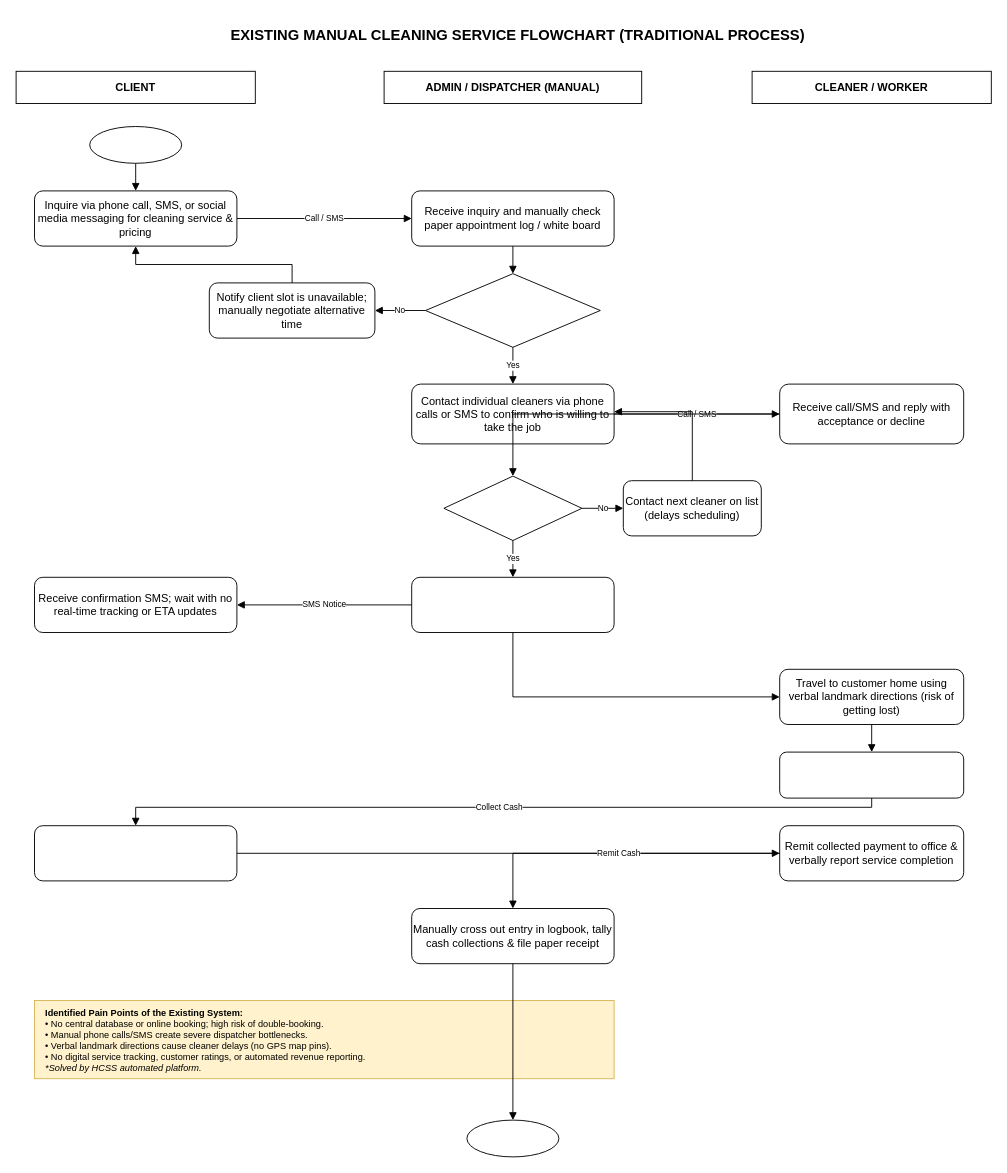
Some shapes in this 1007 by 1173 pixel diagram are drawn without their labels. Here are the shapes that lost their labels. From the top down, the centre of each, then its label:
At pixel 135 144: "Start".
At pixel 512 310: "Requested schedule & cleaner available?".
At pixel 512 507: "Cleaner accepts?".
At pixel 512 604: "Write booking in paper notebook / spreadsheet & send confirmation SMS to client".
At pixel 871 774: "Perform cleaning service on-site".
At pixel 135 853: "Hand over manual cash payment & receive paper receipt / acknowledgment".
At pixel 512 1138: "End".
